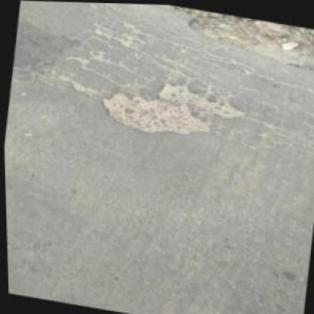Hueco: (97, 68, 251, 149)
